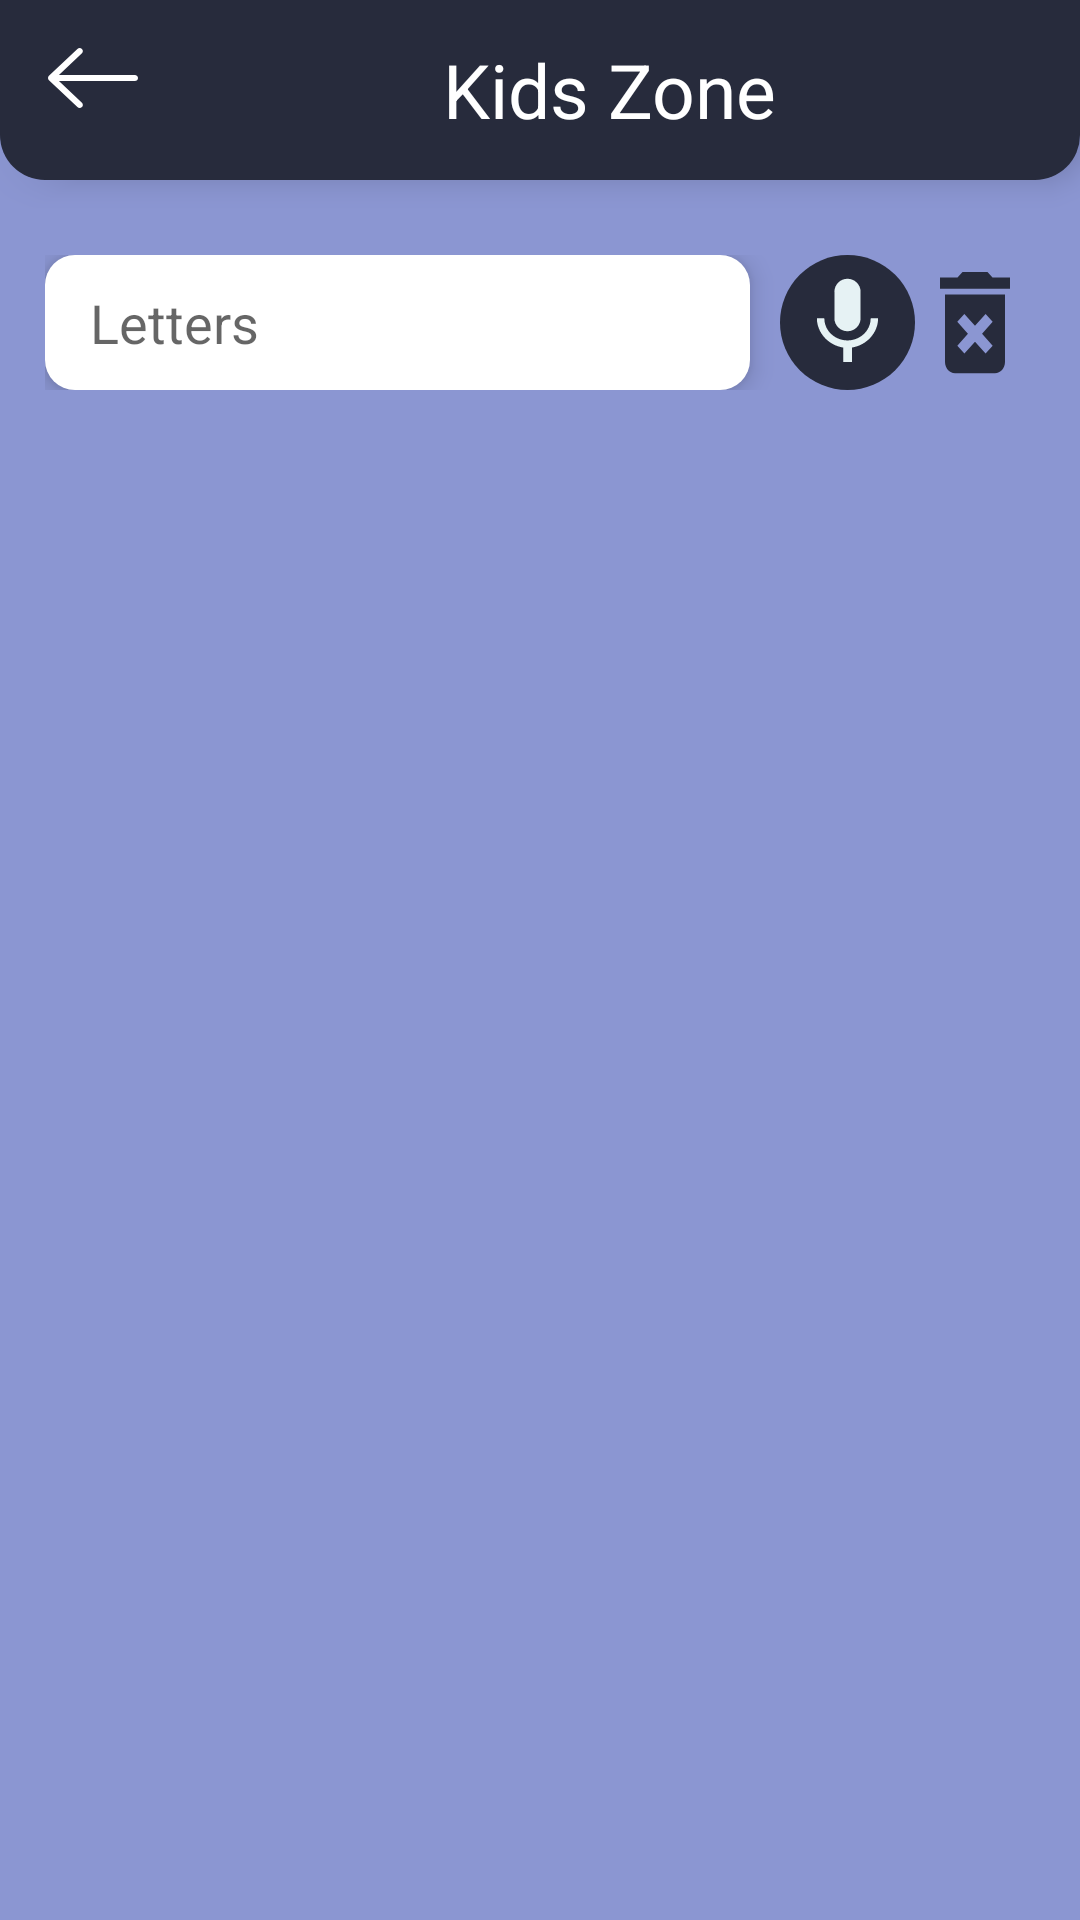

Icons on this 1080×1920 Android screen, each with the point to tap as [x,y]:
delete: [975,323]
left arrow: [93,78]
